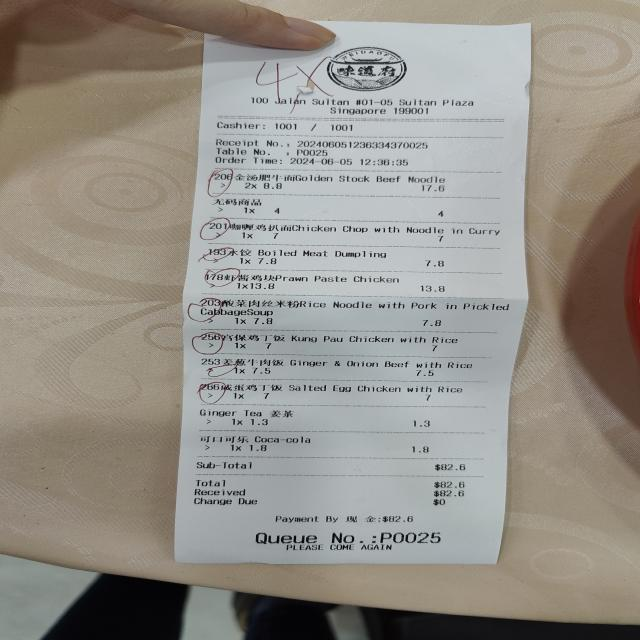bill_region: (187, 167, 511, 512)
